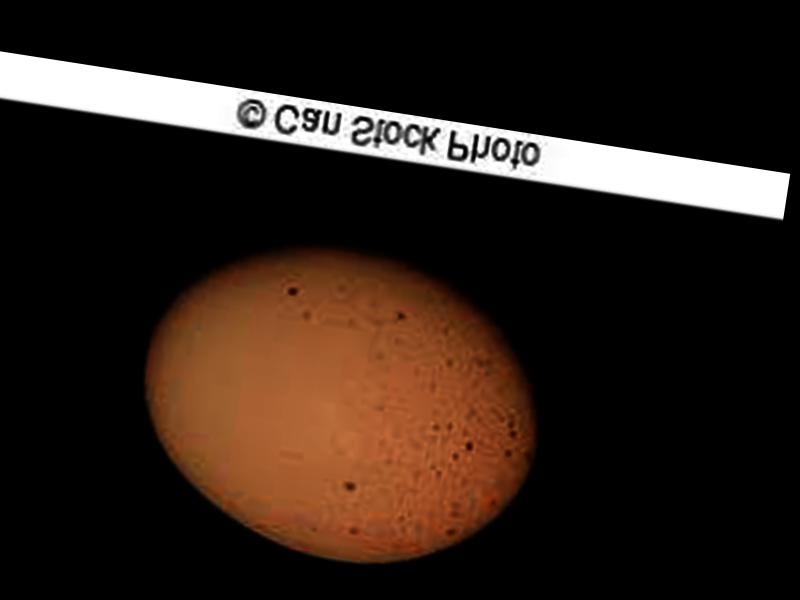Eggs: (119, 214, 561, 587)
